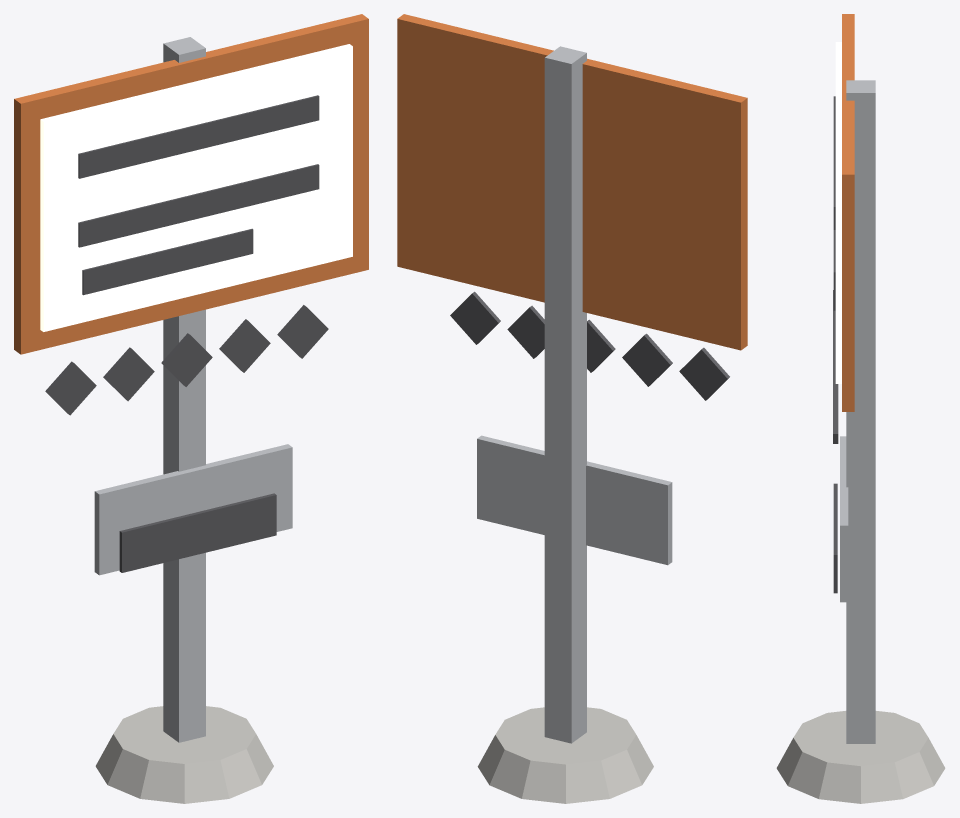
The model's file is underground-mine-and-shaft-works-warning-sign-9c3d0317.glb.
3 views of the same model, side by side, from view 1: azimuth 30°, elevation 25°; view 2: azimuth 150°, elevation 25°; view 3: azimuth 270°, elevation 25° (orthographic). The views are drawn at different scales.
Parts seen in each view (by area): view 1: warning-sign; view 2: warning-sign; view 3: warning-sign.
Part boxes in pixels (x1,y1,x2,y2): warning-sign: (14, 14, 368, 803); warning-sign: (397, 14, 747, 803); warning-sign: (776, 14, 945, 803).
Size of the model in its own units: 0.9 by 1.78 by 0.4.
